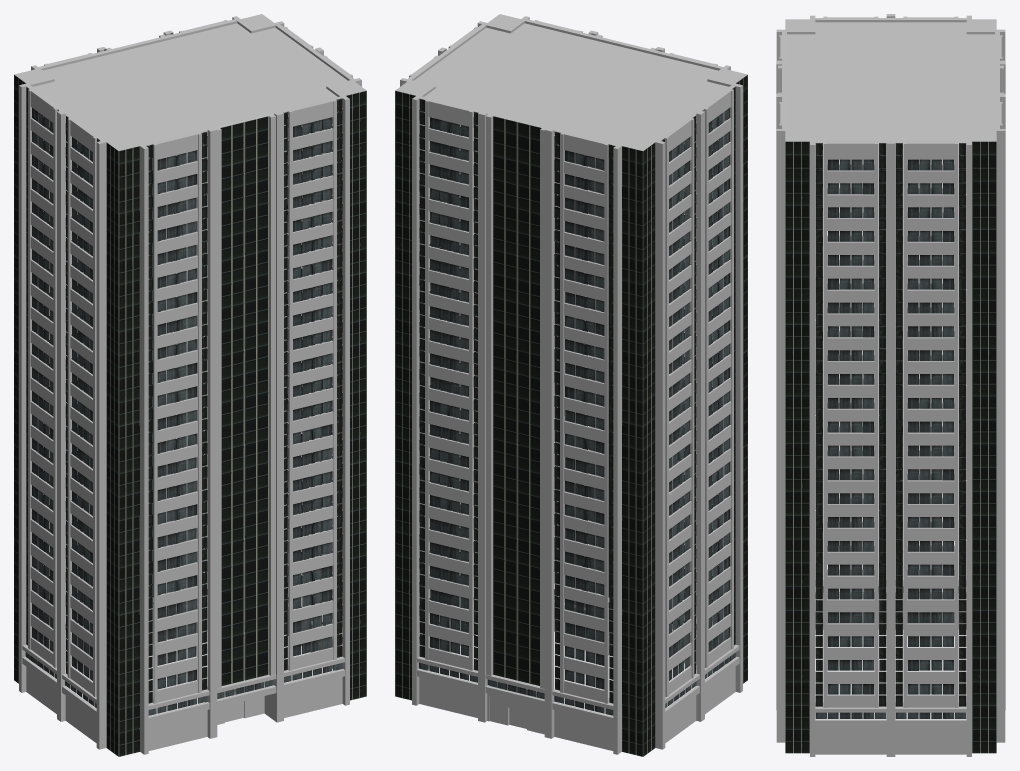
The picture shows the model from 3 angles, left to right: view 1: azimuth 30°, elevation 25°; view 2: azimuth 150°, elevation 25°; view 3: azimuth 270°, elevation 25°; orthographic projection.
Visible parts, largest first — view 1: Building; view 2: Building; view 3: Building.
Boxes of the visible parts, x1,y1,x2,y2 form: Building: (14, 14, 366, 756); Building: (395, 14, 747, 756); Building: (776, 14, 1005, 756).
Size of what is drawn, in the model's own units: 35 by 77.2 by 26.13.
